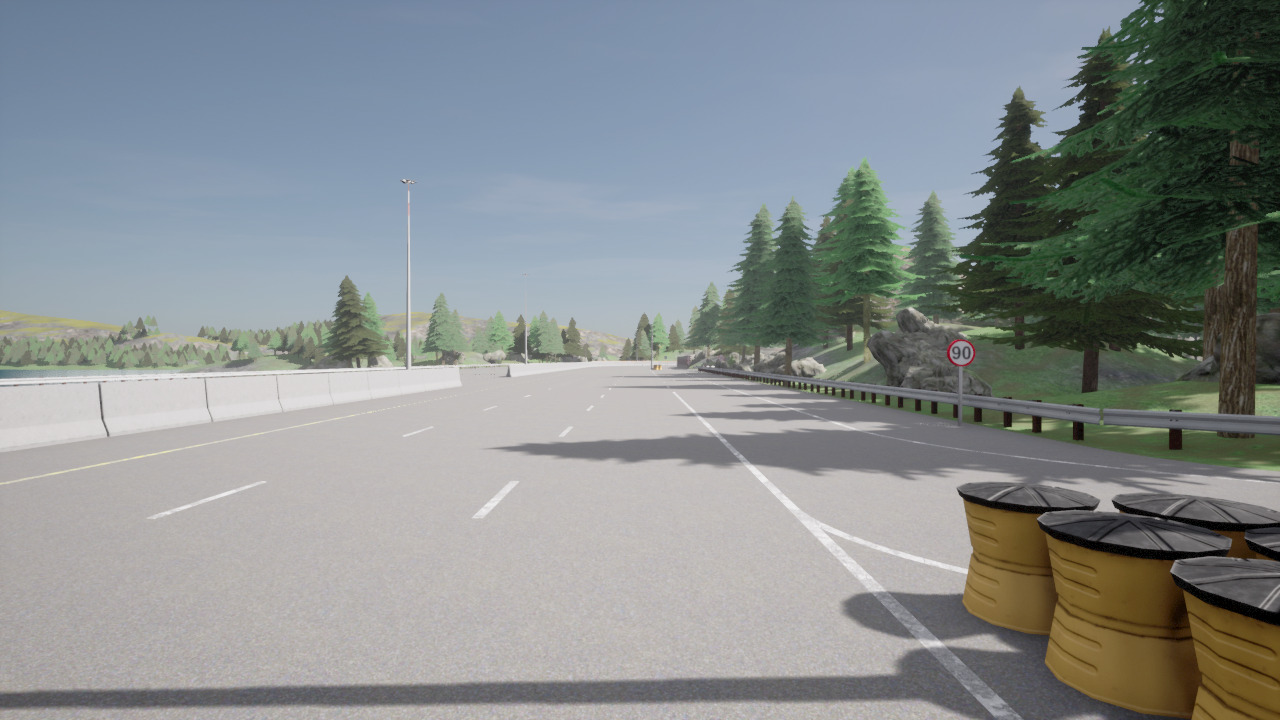sl90: (946, 338, 977, 368)
